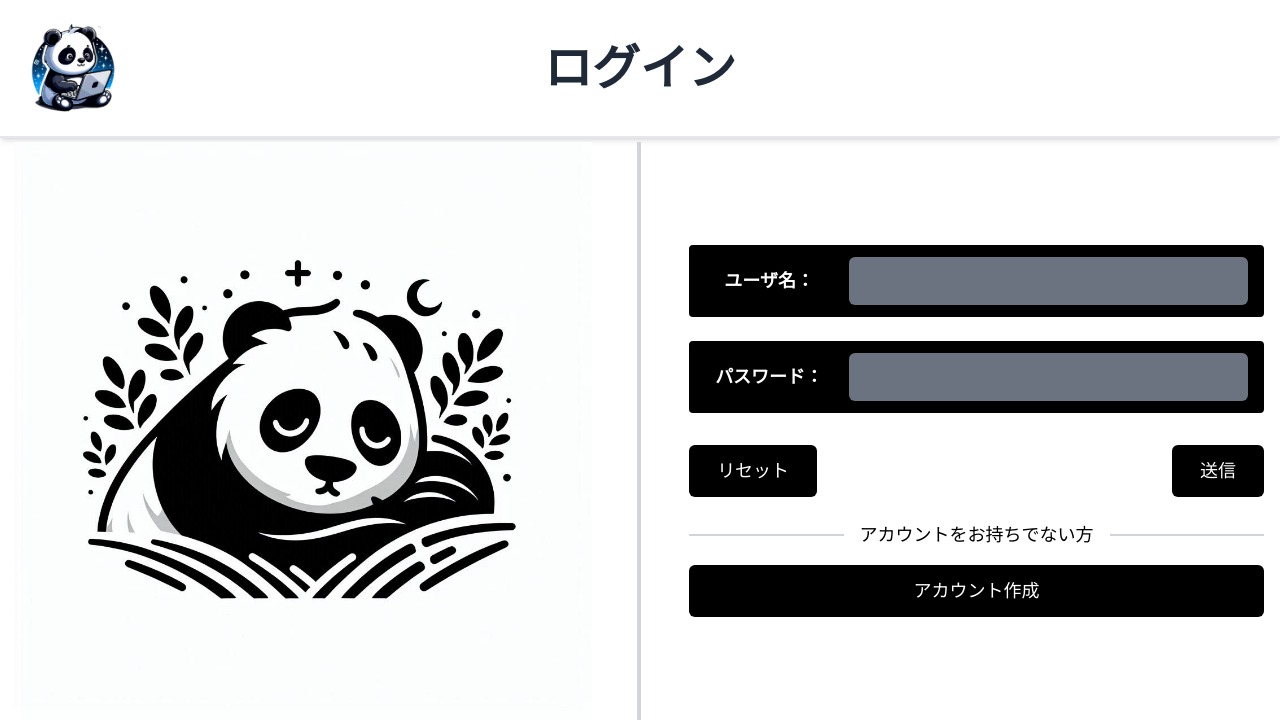
it: Login › フォーム送信処理 › サーバーエラーでdata.messageが存在しない場合にデフォルトエラーメッセージが表示される
// フォームに値を入力
In the field with test id "username": (1049, 281) [849, 257, 1248, 305], type "testuser"
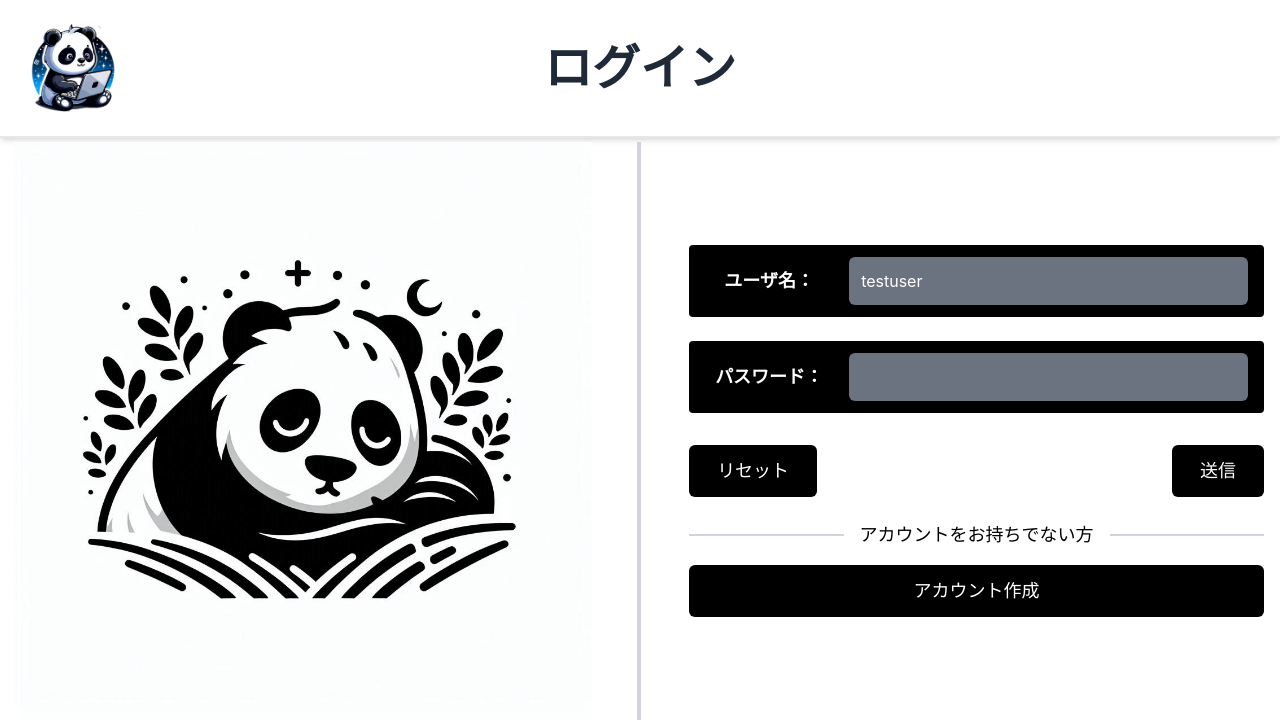
In the password field with test id "password": (1049, 377) [849, 353, 1248, 401], type "password123"
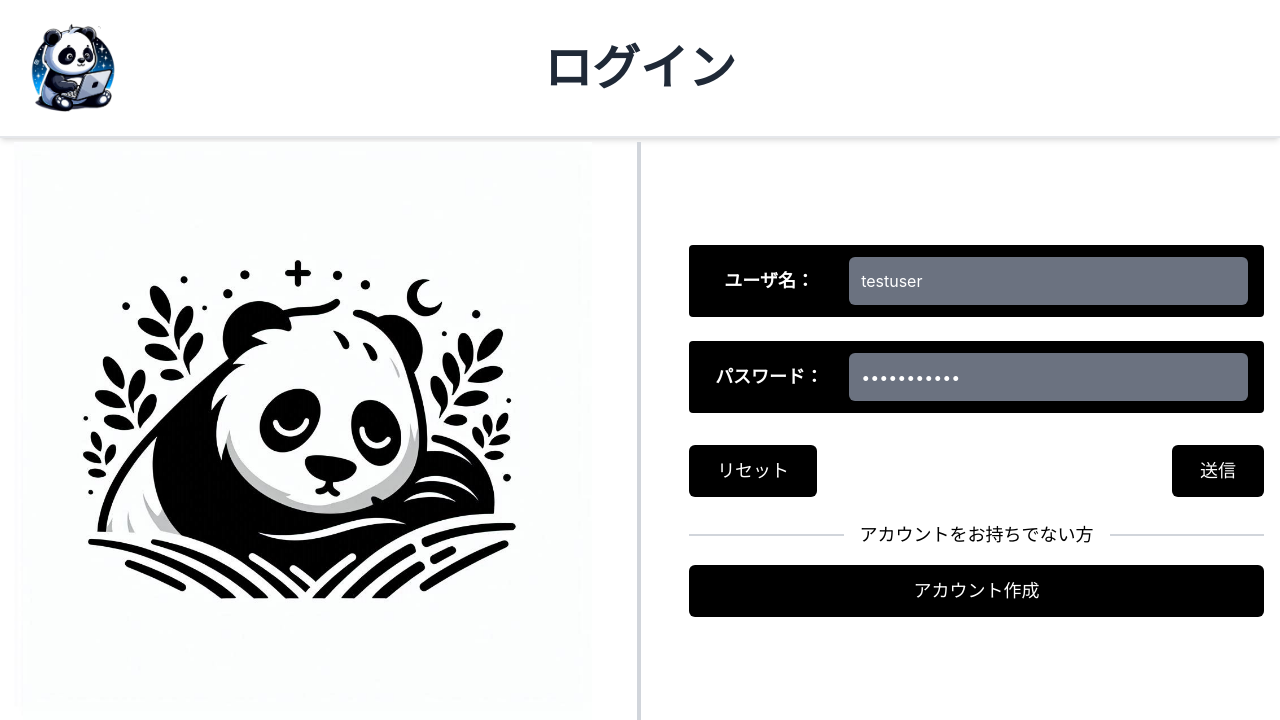
//  フォームを送信
Submit the form, box [689, 245, 1264, 617]
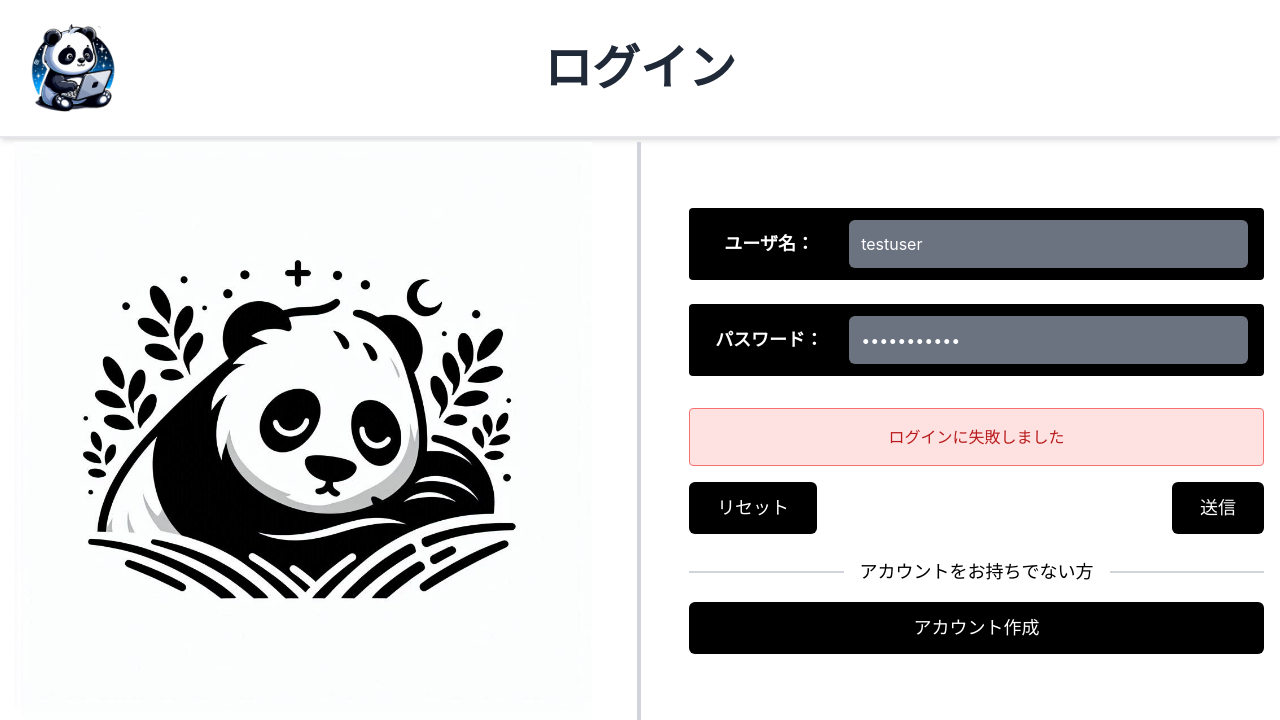
Expected: the message with test id "error-message" reads "ログインに失敗しました", [888, 427, 1064, 447]
